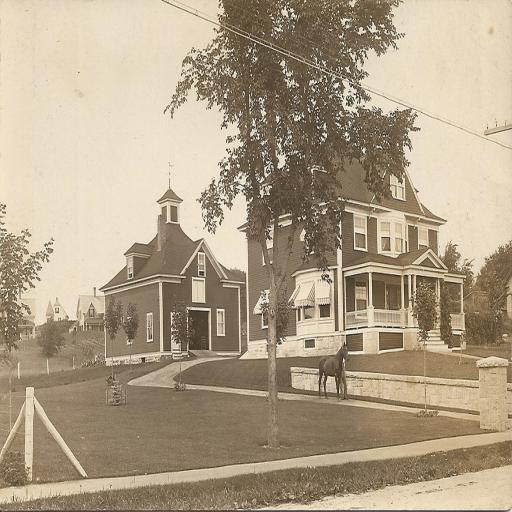horse: (318, 343, 351, 401)
